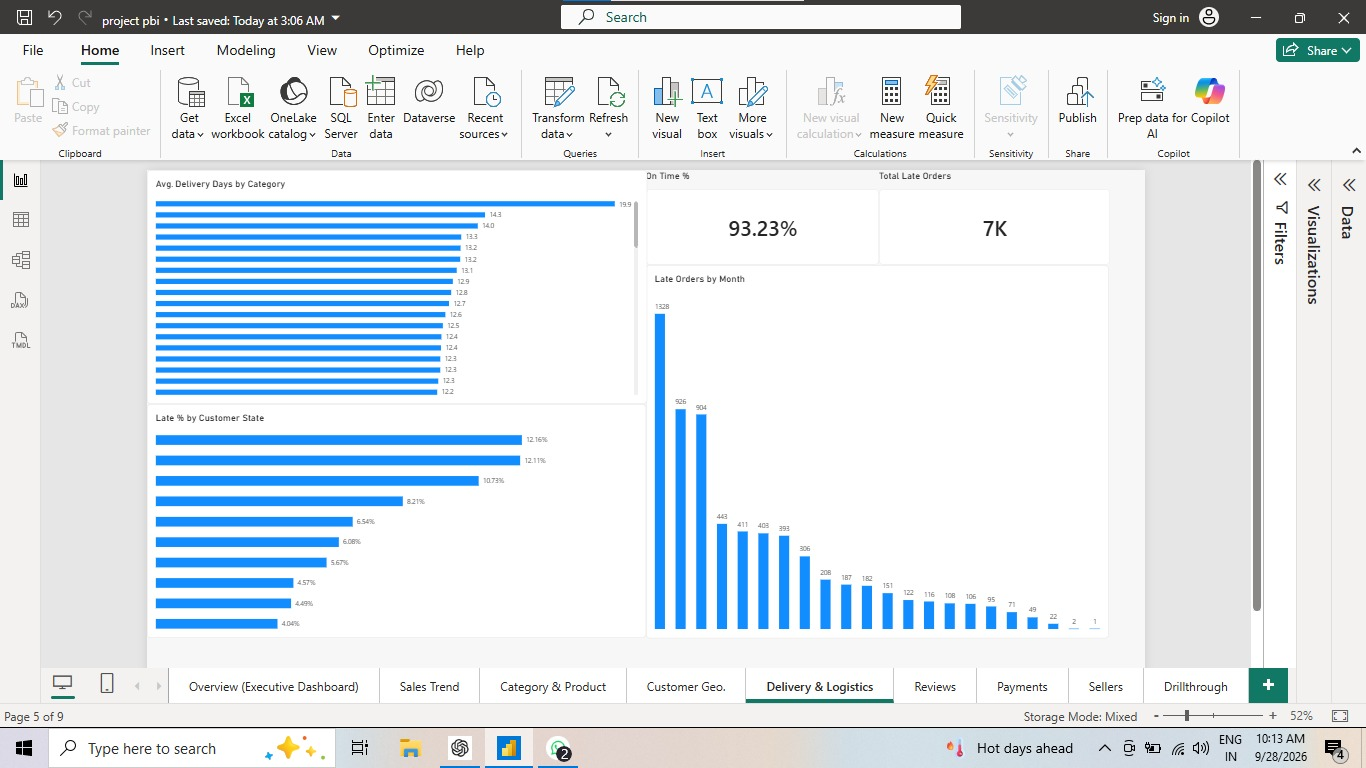

What the dashboard file says about the page in this screenshot:
{"tool":"powerbi","page":{"name":"Delivery & Logistics","canvas":[1920,1080],"ordinal":4},"visuals":[{"type":"cardVisual","title":"On Time %","fields":{"Data":["public bi_fact_sales.On-time %"]},"box":[960,0,448,182],"z":0},{"type":"cardVisual","title":"Total Late Orders","fields":{"Data":["public bi_fact_sales.Late Orders"]},"box":[1408,0,444,182],"z":1},{"type":"clusteredColumnChart","title":"Late Orders by Month","fields":{"Category":["DimDate.Year-Month"],"Y":["public bi_fact_sales.Late Orders"]},"box":[960,182,890,718],"z":2},{"type":"barChart","title":"Avg. Delivery Days by Category","fields":{"Category":["public bi_fact_sales.category"],"Y":["public bi_fact_sales.Avg Delivery Days"]},"box":[0,0,961.5,450],"z":3},{"type":"barChart","title":"Late % by Customer State","fields":{"Category":["public bi_fact_sales.customer_state"],"Y":["public bi_fact_sales.Late %"]},"box":[0,450,960,450],"z":4}]}

Visuals, with their boxes on the page's 1920x1080 design canvas (x1, y1, x2, y2). These are canvas units, not pixel positions in the 1366x768 screenshot, which may show the page scaled, cropped or inside an application window:
"On Time %" cardVisual: left=960, top=0, right=1408, bottom=182
"Total Late Orders" cardVisual: left=1408, top=0, right=1852, bottom=182
"Late Orders by Month" clusteredColumnChart: left=960, top=182, right=1850, bottom=900
"Avg. Delivery Days by Category" barChart: left=0, top=0, right=962, bottom=450
"Late % by Customer State" barChart: left=0, top=450, right=960, bottom=900
